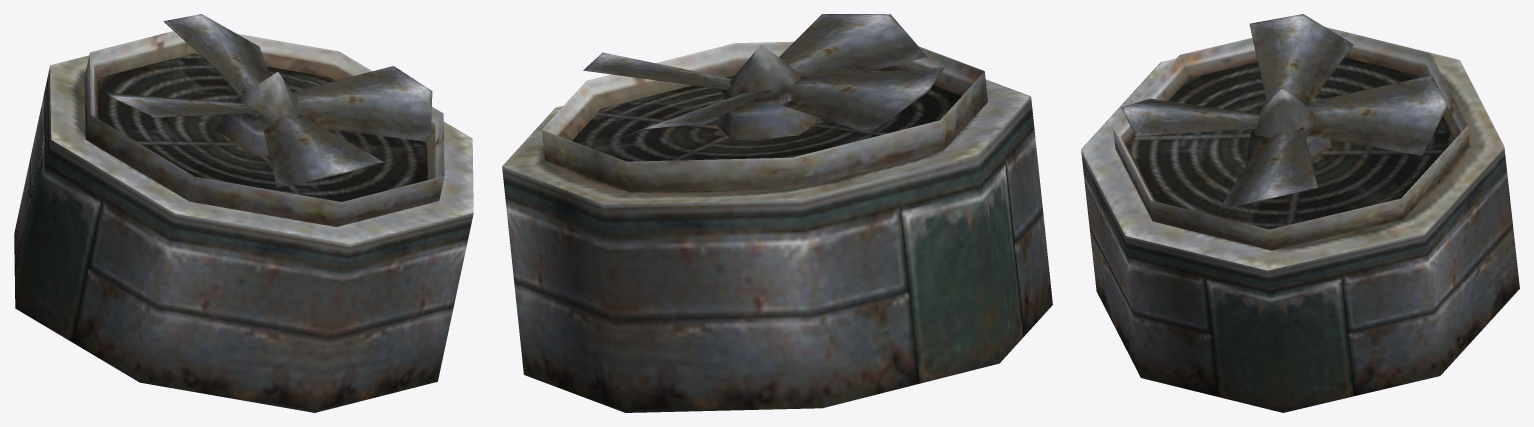
File: yw_huanghunhupan_fengxiang02.FBX
3 views of the same model, side by side, from view 1: azimuth 30°, elevation 25°; view 2: azimuth 150°, elevation 25°; view 3: azimuth 270°, elevation 25° (orthographic). The views are drawn at different scales.
Parts seen in each view (by area): view 1: yw_huanghunhupan_fengxiang02; view 2: yw_huanghunhupan_fengxiang02; view 3: yw_huanghunhupan_fengxiang02.
Boxes of the visible parts, box(x1,y1,x2,y2) form: yw_huanghunhupan_fengxiang02: box(14, 14, 473, 412); yw_huanghunhupan_fengxiang02: box(502, 14, 1052, 412); yw_huanghunhupan_fengxiang02: box(1081, 14, 1519, 412).
Size of the model in its own units: 76.02 by 48.24 by 74.59.
